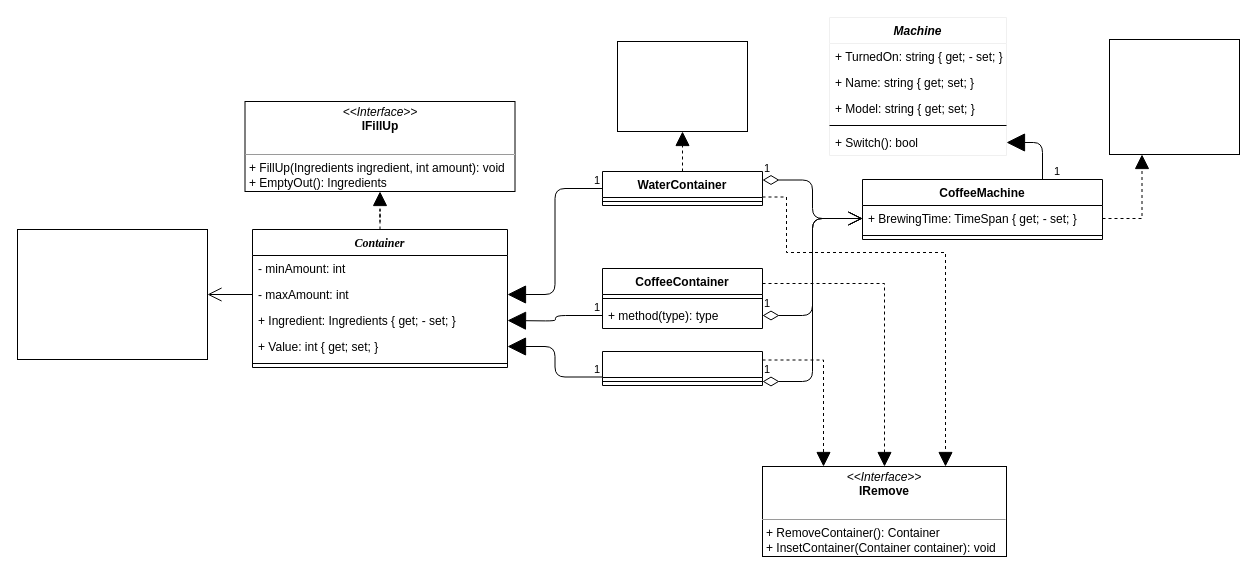
Image size: 1257x574. Some labels were removed from this diagram. Here are the shapes that lost their labels. From the top down, the centre of each, then its label:
[682,86]: <<Interface>> IDispenseWater + Dispense(): void
[1174,96]: <<Interface>> IBrew + TurnOn(): void + TurnOff(): void + Brew():void
[112,294]: <<enum>> Ingredients Coffee CoffeeBeans Tea Water
[682,368]: IngredientContainer
